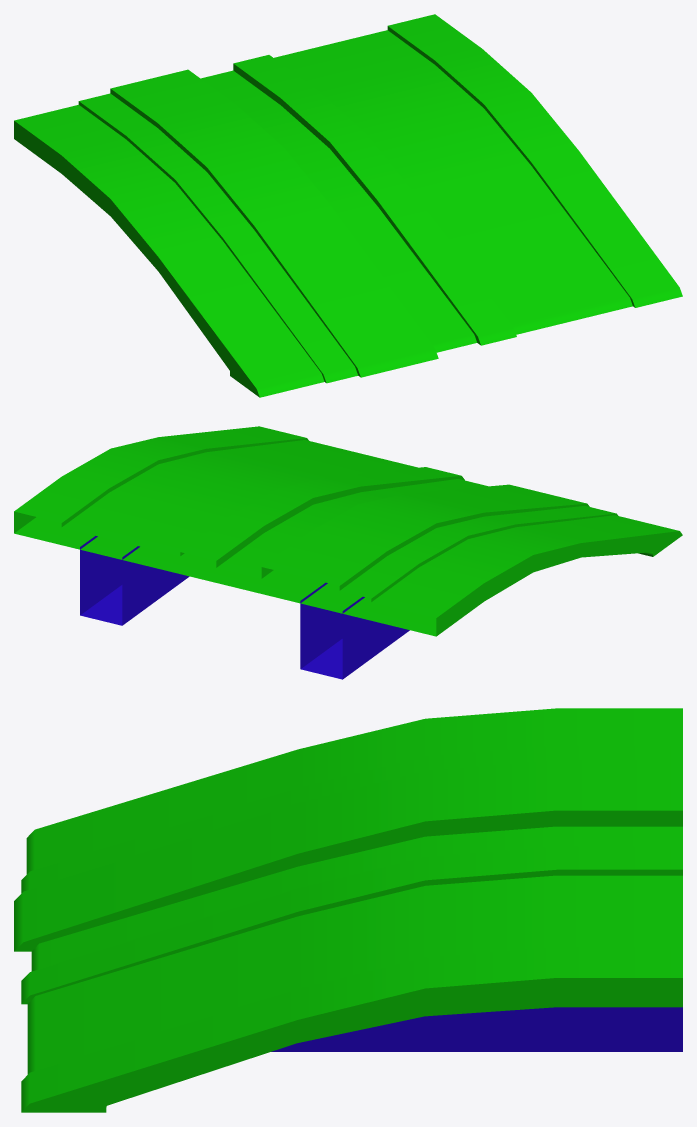
The model's file is SM_Bridge_End.fbx.
The picture shows the model from 3 angles, top to bottom: view 1: azimuth 30°, elevation 25°; view 2: azimuth 150°, elevation 25°; view 3: azimuth 270°, elevation 25°; orthographic projection. The views are drawn at different scales.
Parts seen in each view (by area): view 1: pont_end_hp; view 2: pont_end_hp; view 3: pont_end_hp.
Part boxes in pixels (bbox=[...]): pont_end_hp: bbox=[14, 14, 682, 397]; pont_end_hp: bbox=[14, 426, 682, 679]; pont_end_hp: bbox=[14, 708, 682, 1112].
Size of the model in its own units: 100 by 24 by 103.
